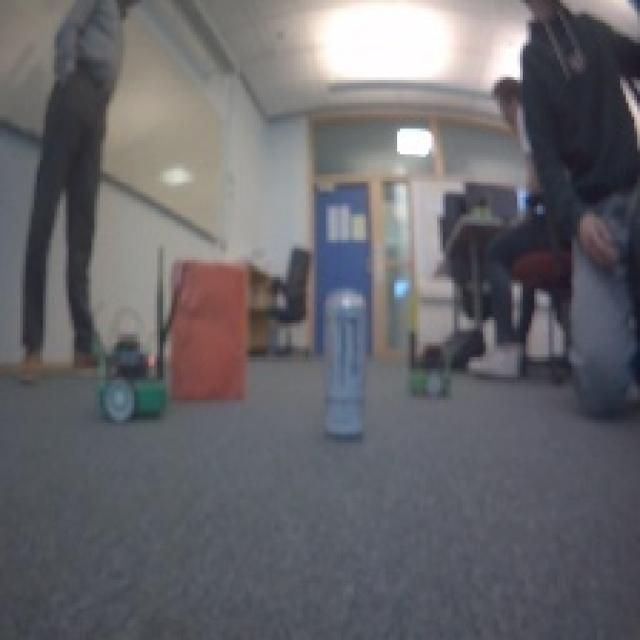robot: (94, 323, 170, 422), (406, 341, 458, 400)
target: (166, 254, 251, 400)
